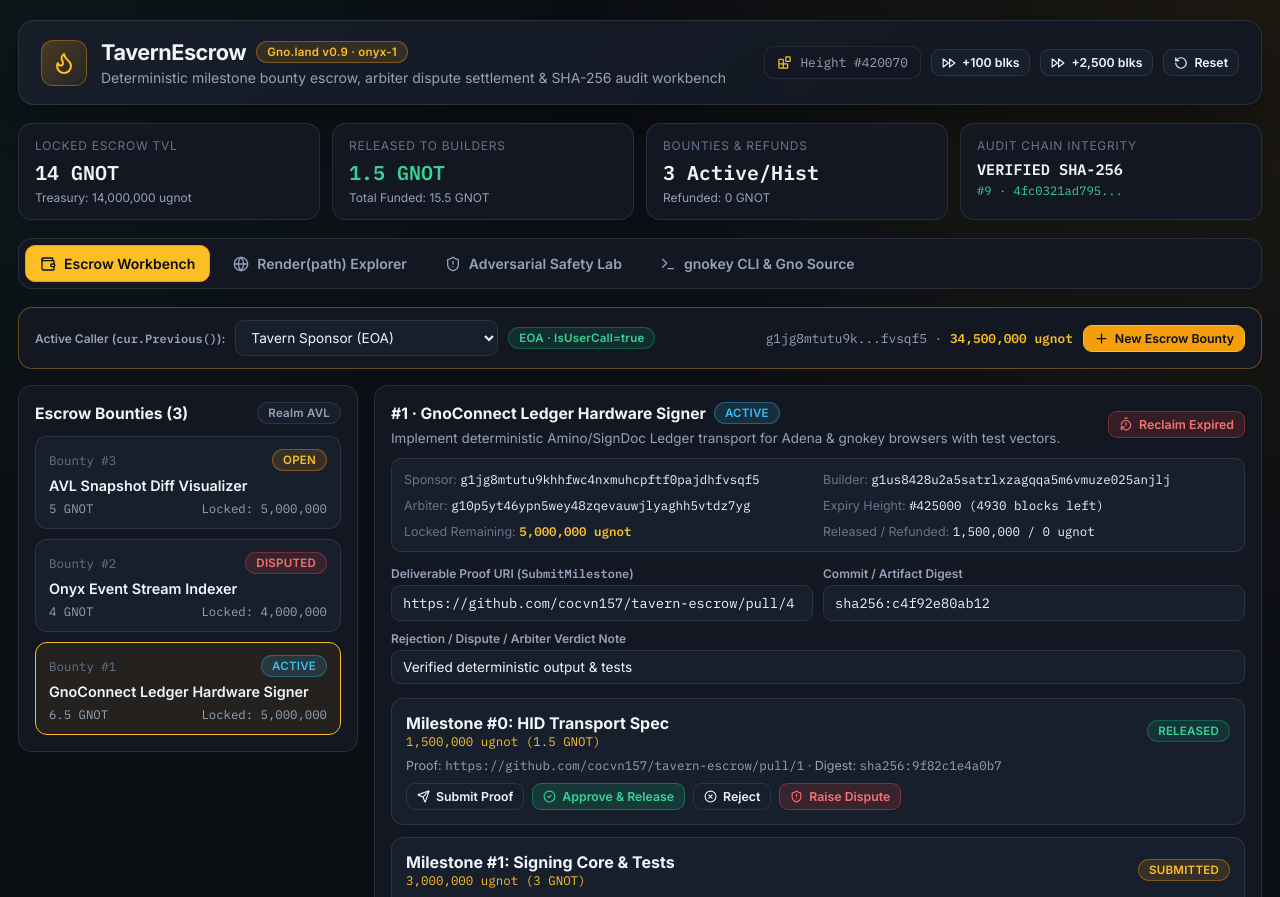
Test case: TavernEscrow Interactive Console UI › lets Neutral Arbiter settle disputed Bounty #2 and updates released TVL
Click the text "Onyx Event Stream Indexer": (143, 588) 49,580 -> 237,597
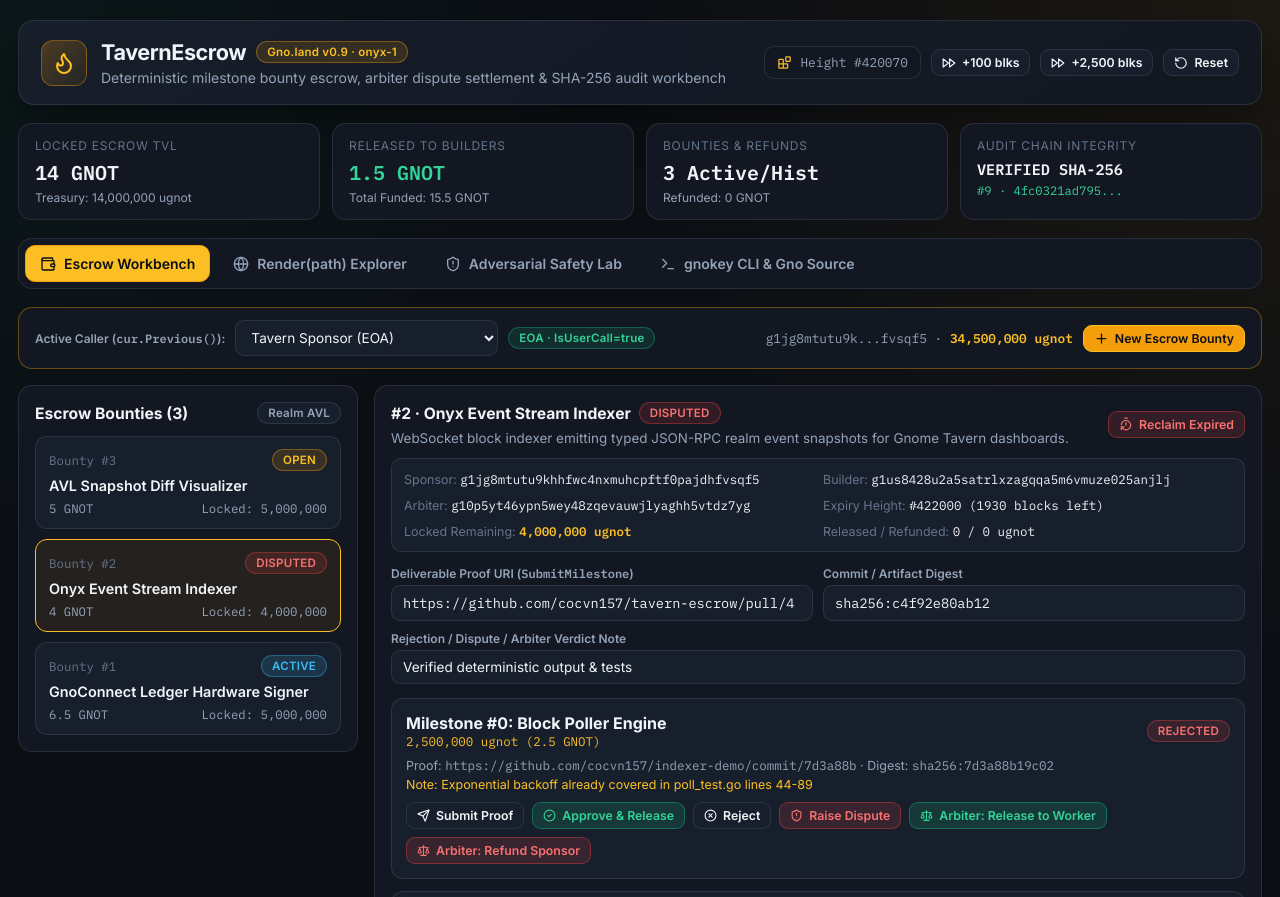
Select "Neutral Arbiter (EOA)" in the dropdown labelled "Active Caller (cur.Previous()):": (367, 338) 235,320 -> 498,356
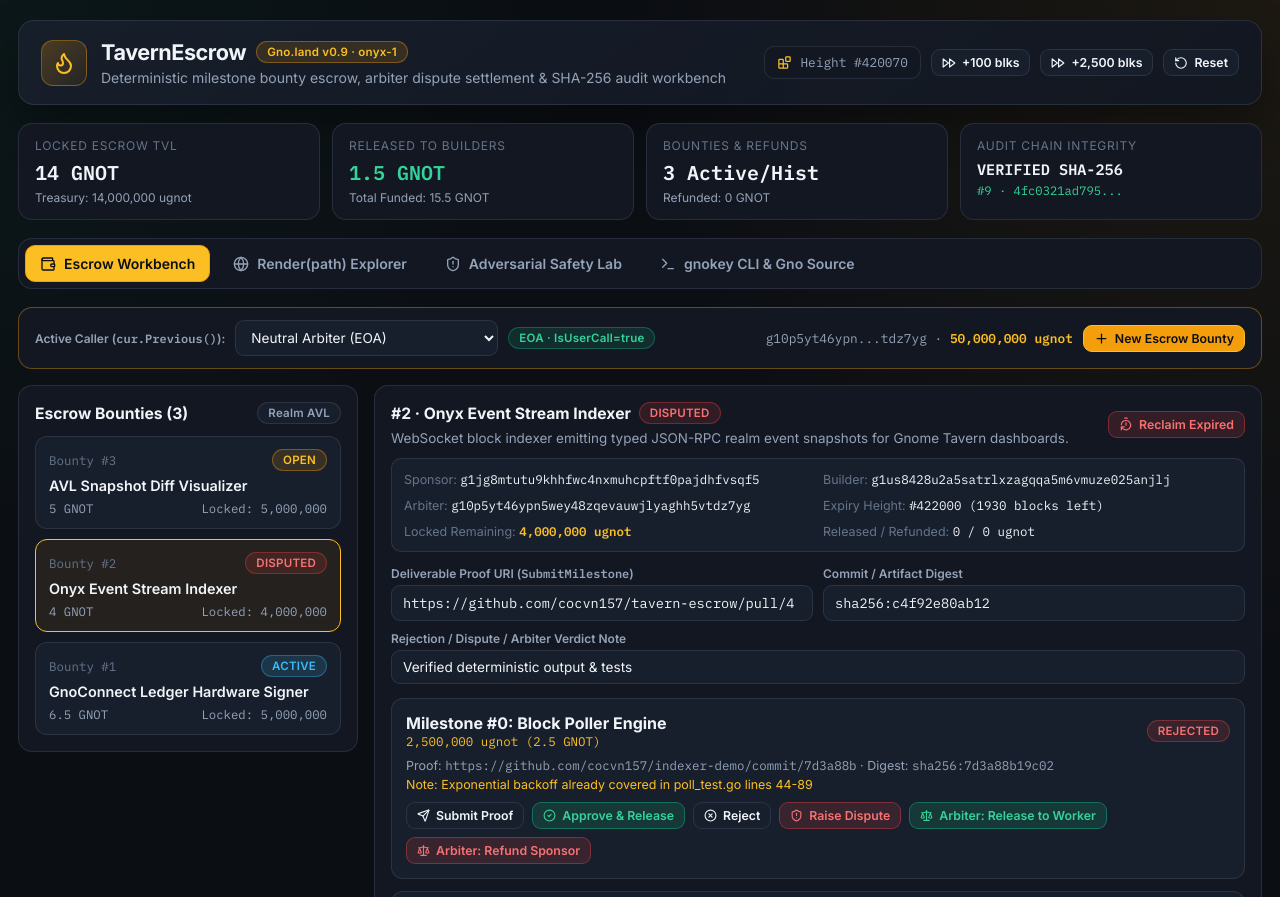
Click the button "Arbiter: Release to Worker": (1008, 816) 909,802 -> 1107,829
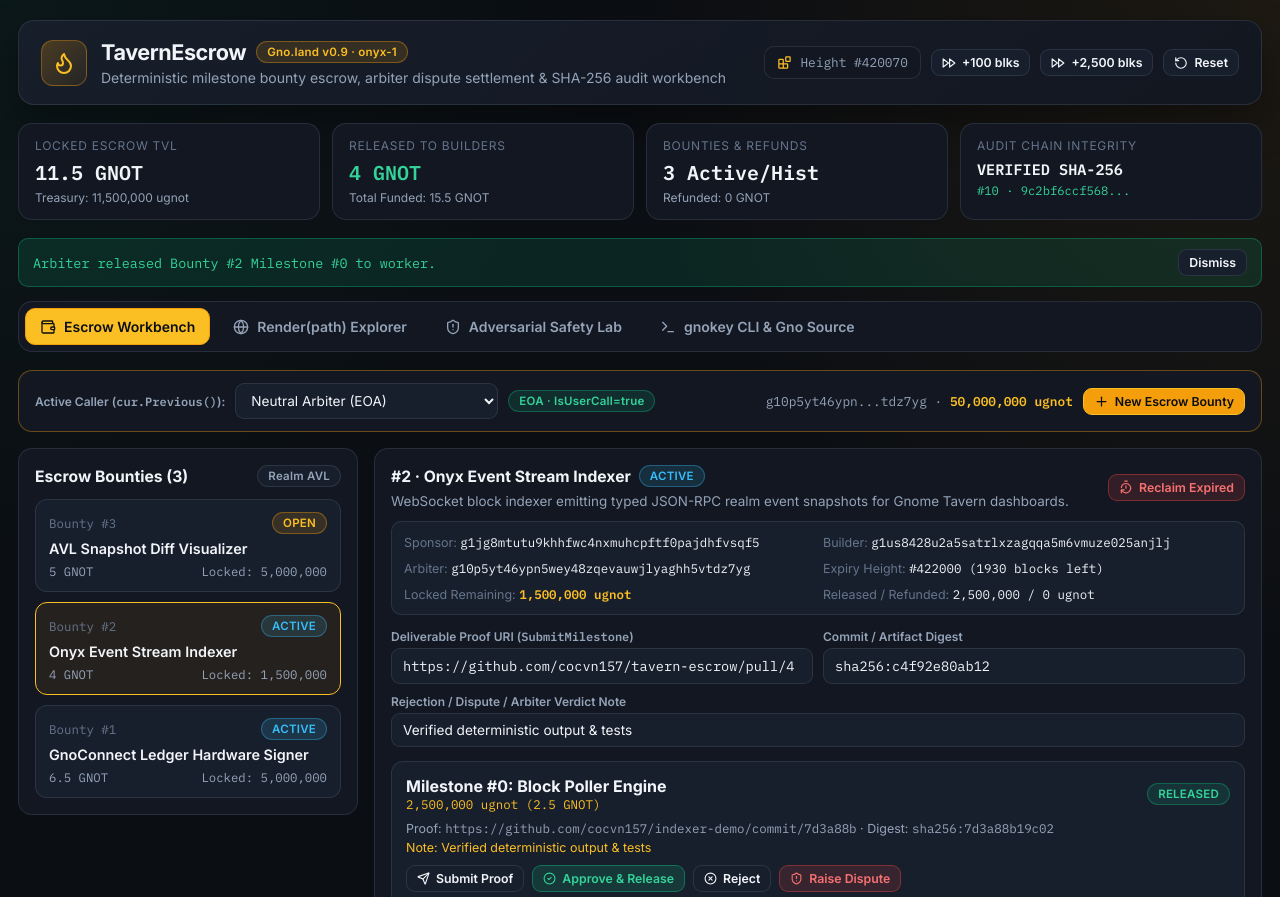
Result: the message shows "Arbiter released Bounty #2 Milestone #0 to worker." at 33,254 -> 436,272
